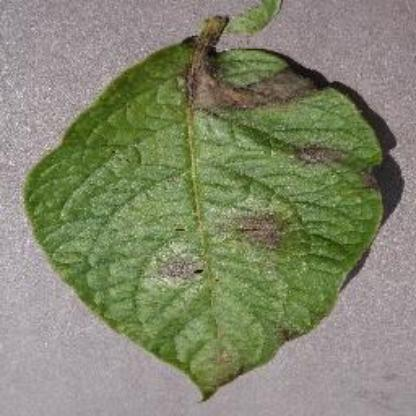Late-Blight: (24, 9, 390, 396)
